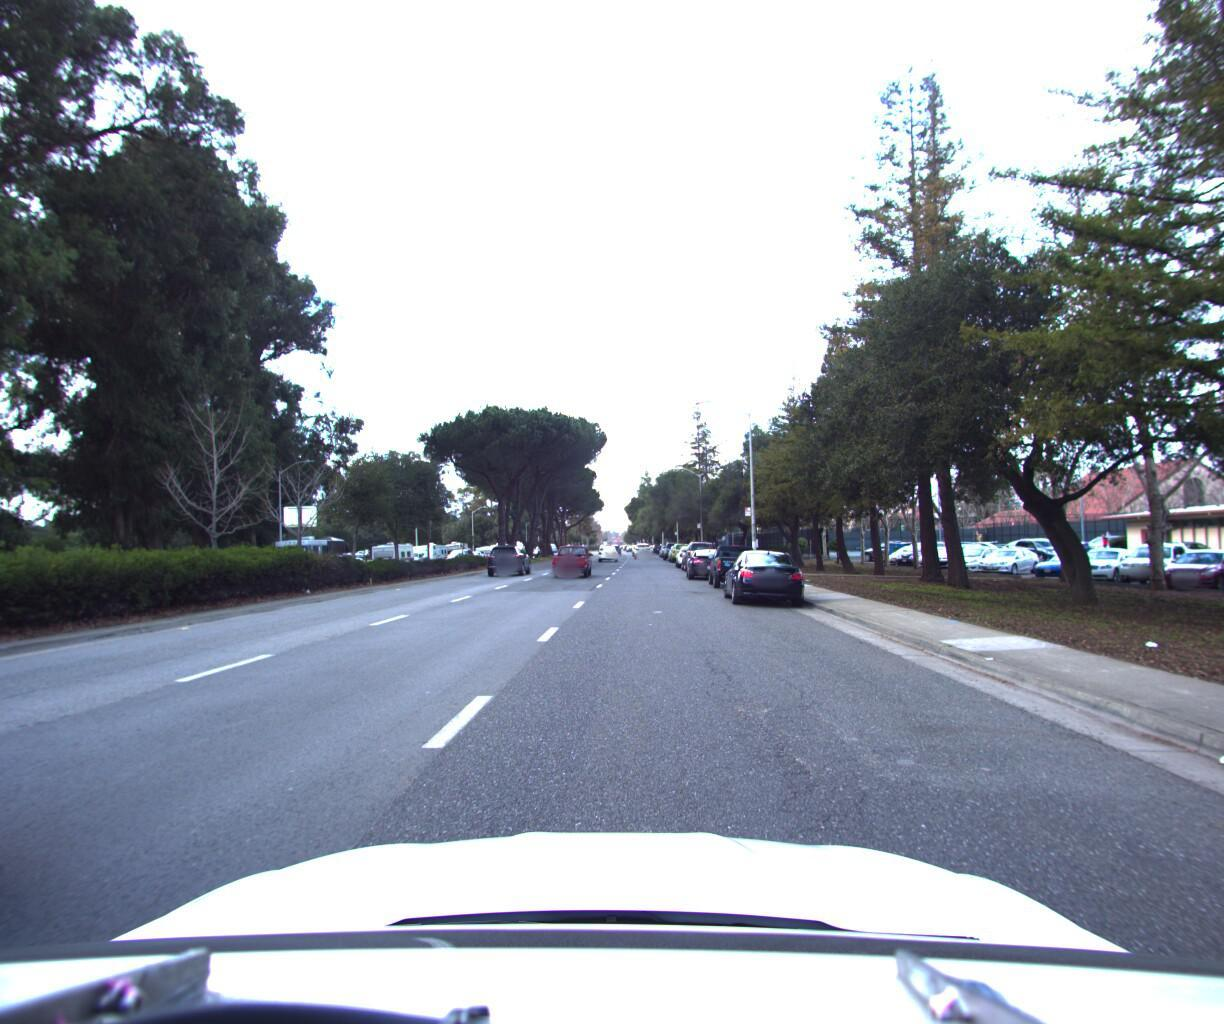car: (718, 541, 809, 606), (703, 538, 764, 583), (544, 538, 591, 574), (486, 539, 535, 573), (681, 542, 726, 575), (675, 536, 714, 567), (672, 536, 701, 564), (661, 536, 688, 557), (597, 538, 619, 558)
other_vehicle: (276, 530, 345, 563), (374, 539, 417, 561)
